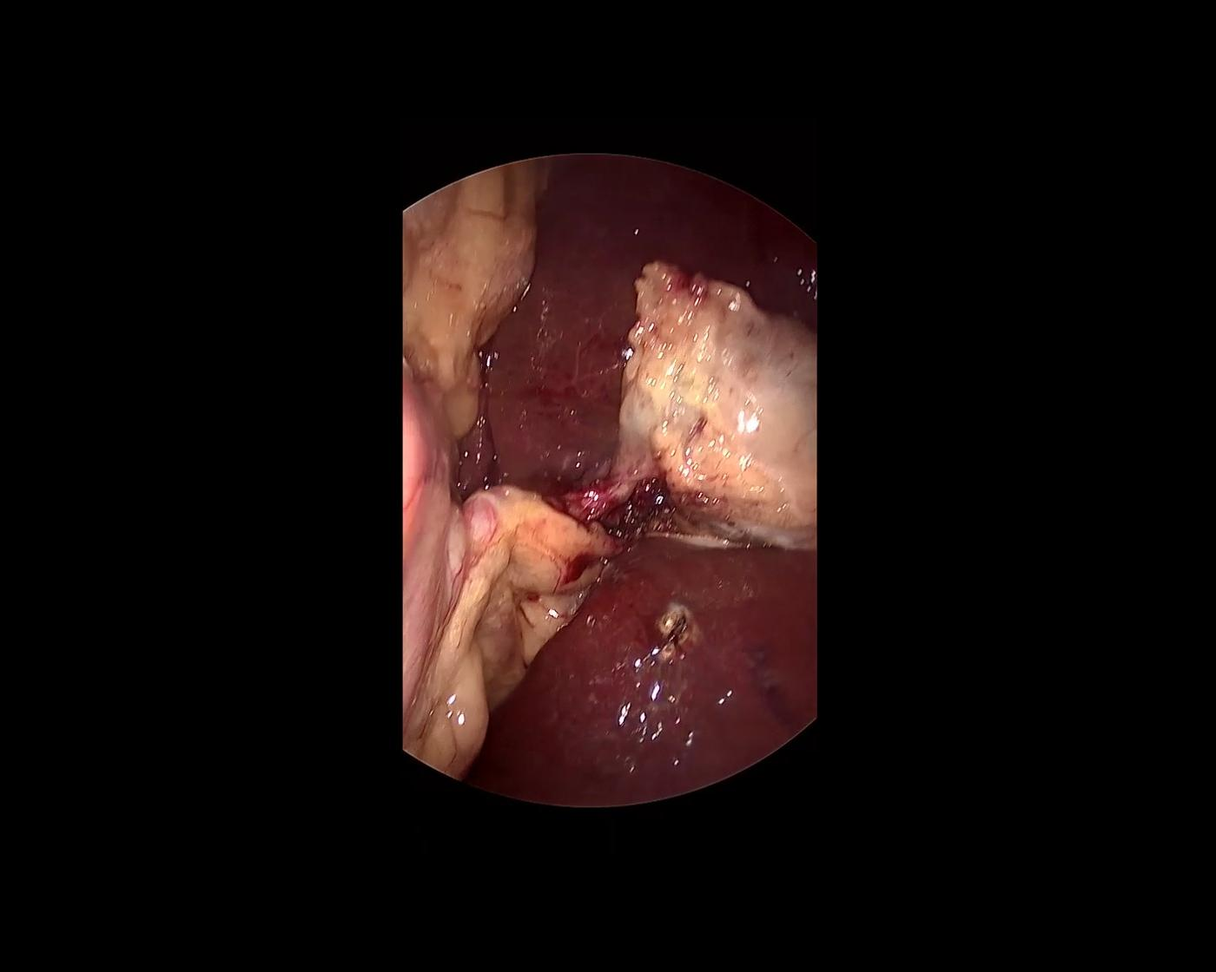Gallbladder: (616, 261, 816, 551)
Liver: (445, 135, 848, 584), (462, 536, 815, 805)
